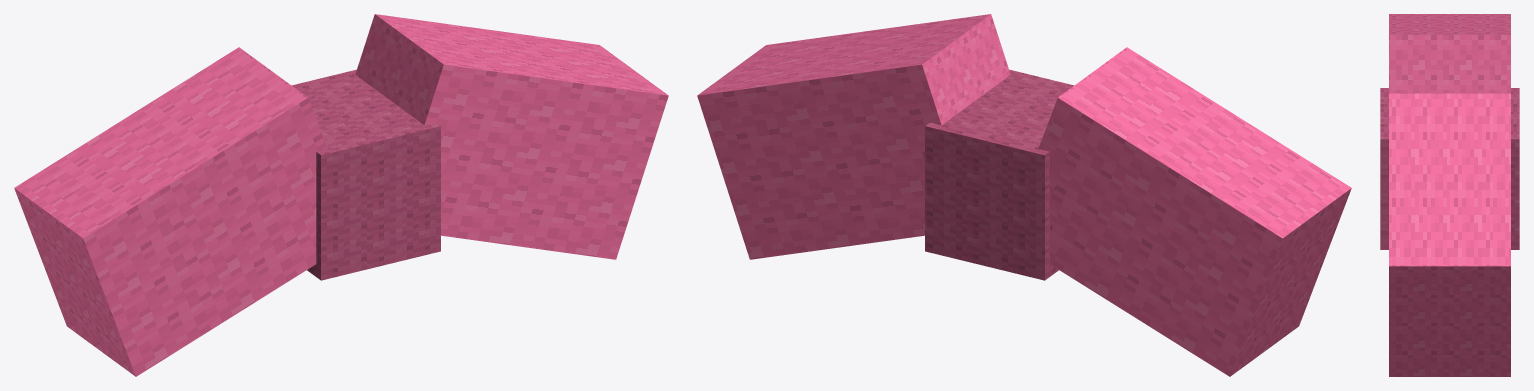
File: mono.glb
The picture shows the model from 3 angles, left to right: view 1: azimuth 30°, elevation 25°; view 2: azimuth 150°, elevation 25°; view 3: azimuth 270°, elevation 25°; orthographic projection. The views are drawn at different scales.
Visible parts, largest first — view 1: _MeshInstance3D_5, _MeshInstance3D_6, _MeshInstance3D_7; view 2: _MeshInstance3D_5, _MeshInstance3D_6, _MeshInstance3D_7; view 3: _MeshInstance3D_6, _MeshInstance3D_5, _MeshInstance3D_7.
Part boxes in pixels (<box>): _MeshInstance3D_5: <box>14,47,327,376</box>; _MeshInstance3D_6: <box>355,14,668,259</box>; _MeshInstance3D_7: <box>292,69,440,280</box>; _MeshInstance3D_5: <box>1038,47,1351,376</box>; _MeshInstance3D_6: <box>697,14,1010,259</box>; _MeshInstance3D_7: <box>925,69,1073,280</box>; _MeshInstance3D_6: <box>1389,93,1510,376</box>; _MeshInstance3D_5: <box>1389,14,1510,92</box>; _MeshInstance3D_7: <box>1380,88,1519,249</box>.
Size of the model in its own units: 0.1712 by 0.0663 by 0.04.
2 materials, 2 textured.
